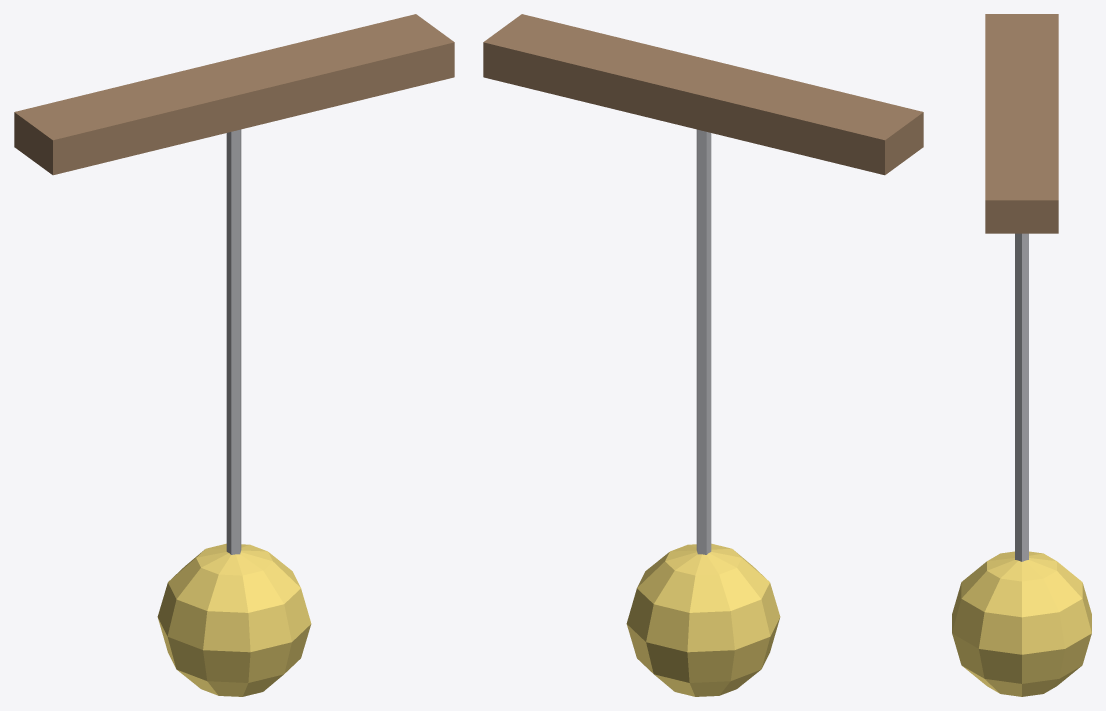
Rendered from pendulo.glb.
The picture shows the model from 3 angles, left to right: view 1: azimuth 30°, elevation 25°; view 2: azimuth 150°, elevation 25°; view 3: azimuth 270°, elevation 25°; orthographic projection. The views are drawn at different scales.
Visible parts, largest first — view 1: soporte, pendulo; view 2: soporte, pendulo; view 3: pendulo, soporte.
Part boxes in pixels (x1,y1,x2,y2): soporte: [14, 14, 454, 175]; pendulo: [157, 129, 311, 696]; soporte: [483, 14, 923, 175]; pendulo: [626, 129, 780, 696]; pendulo: [952, 233, 1091, 696]; soporte: [985, 14, 1058, 233].
Size of the model in its own units: 1.2 by 1.75 by 0.3804.
